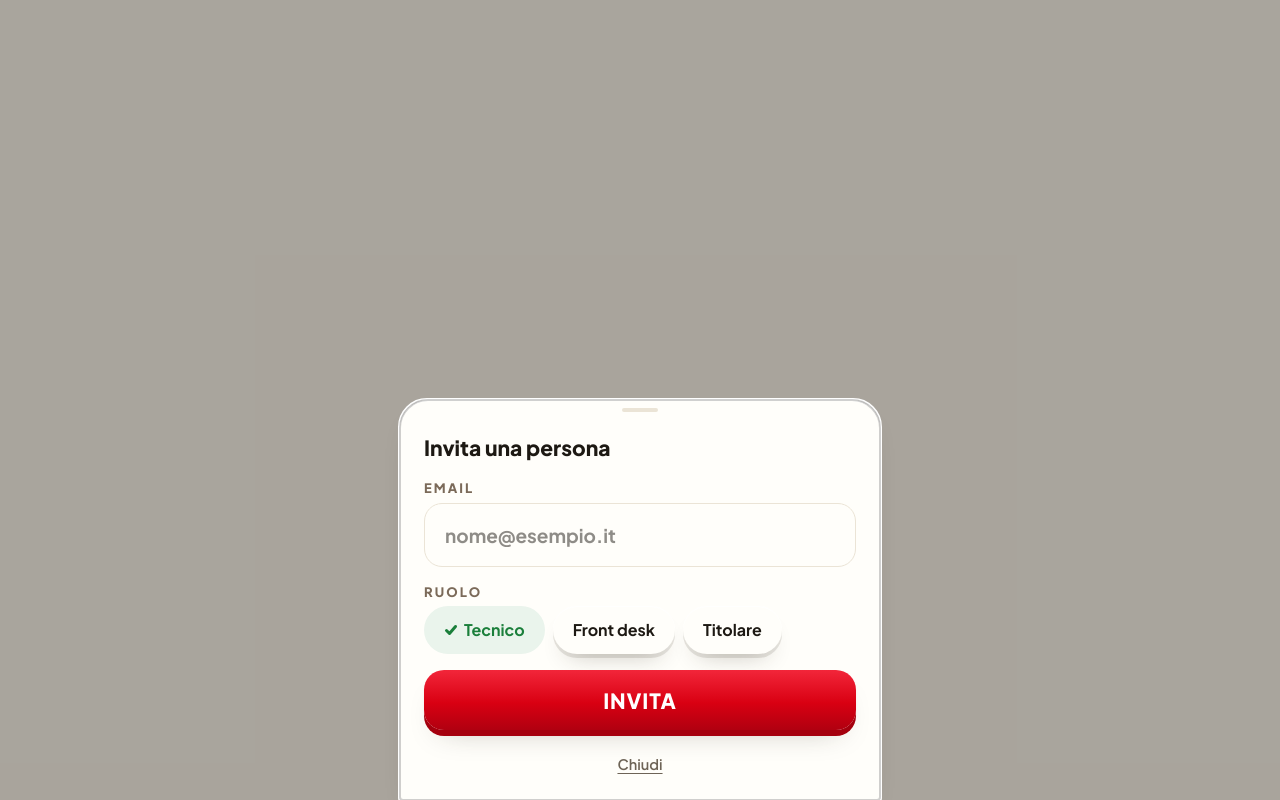
it: InvitoPersonaSheet (Task 13) › submit con email valida (ruolo default tecnico) → POST /api/tecnici/invite con body {email, ruolo}, poi messaggio verde + refresh lista
In the field labelled "Email": [640, 535] box [424,503,856,567], type "nuovo@esempio.it"
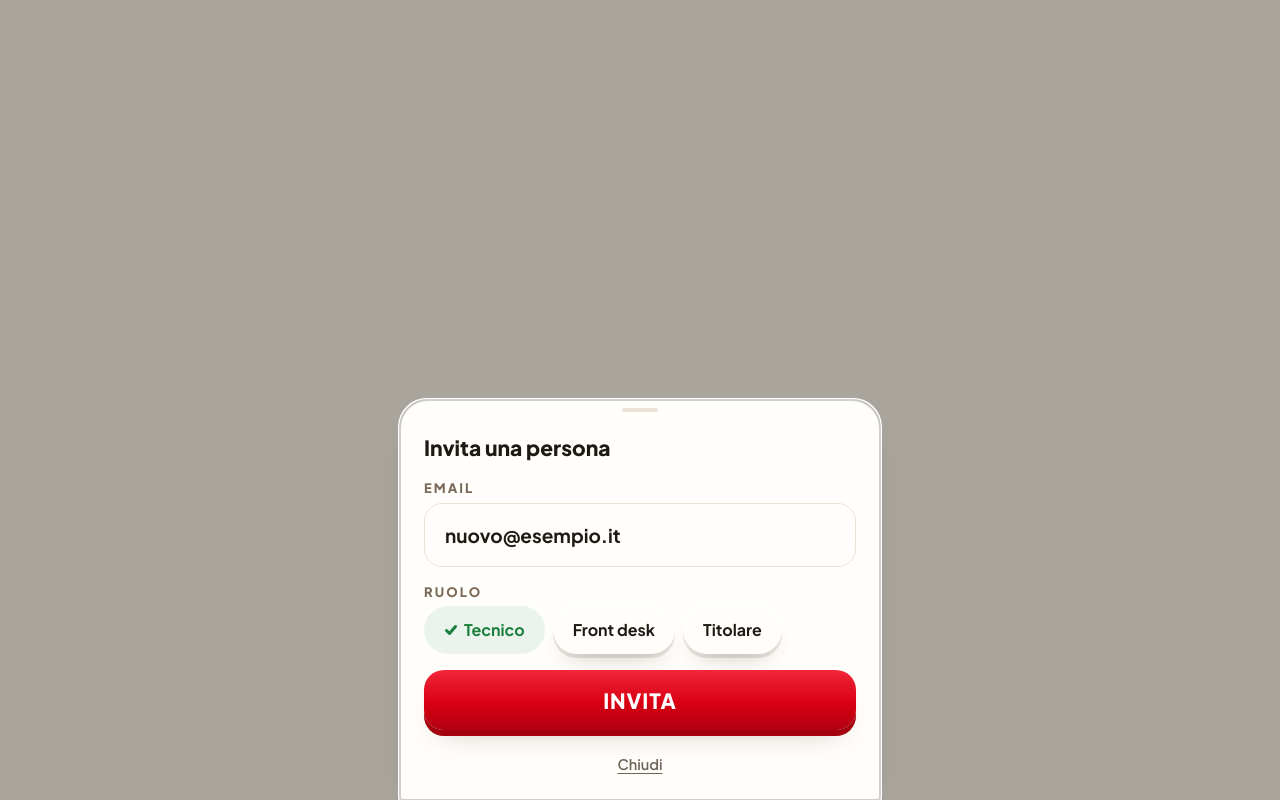
Click the button "Invita": [640, 700] box [424,670,856,730]
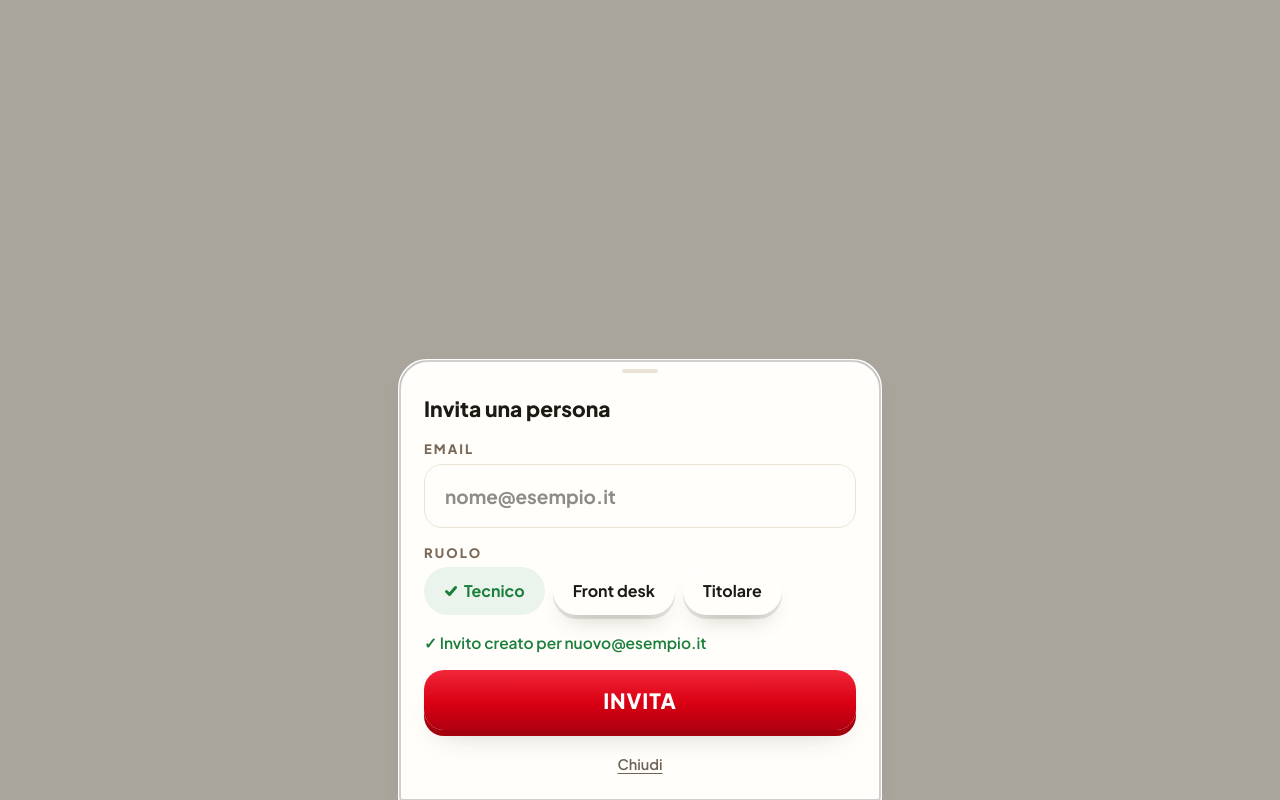
Expected: the message shows "Invito creato per nuovo@esempio.it", [440,633,706,652]
